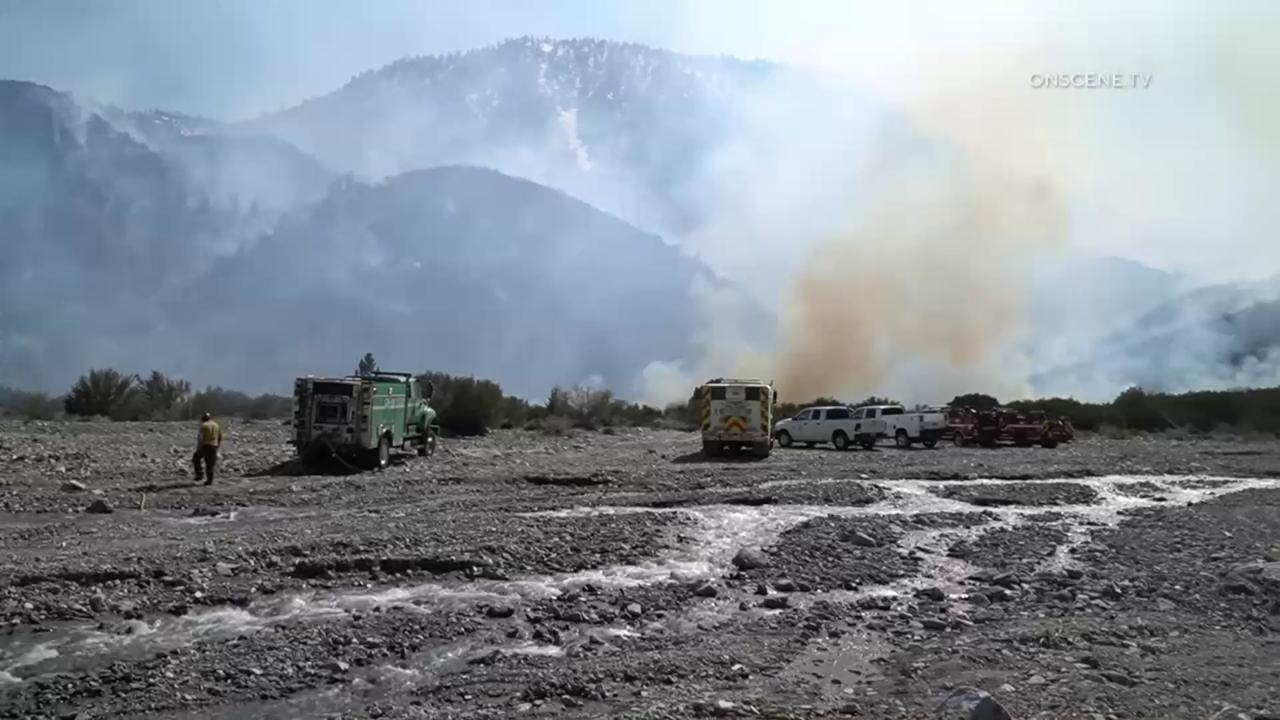smoke: (0, 0, 1280, 412)
